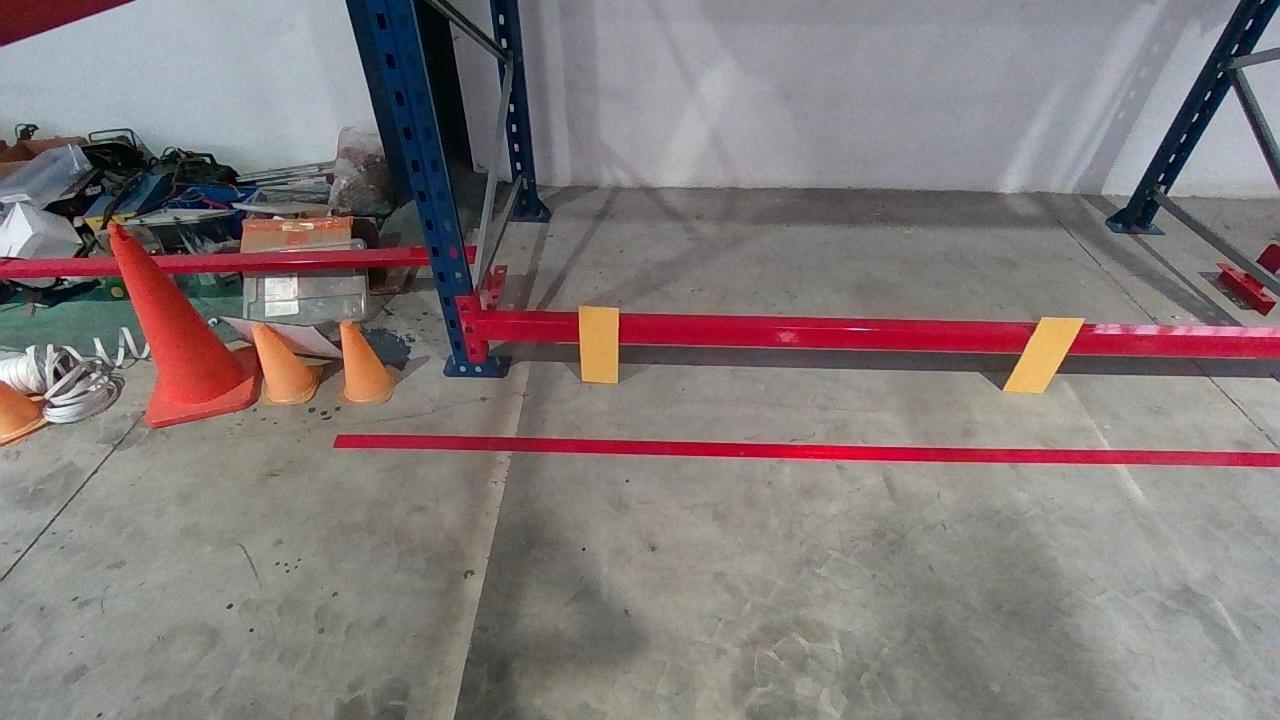h_rack: (480, 320, 1278, 356)
orange_strip: (1004, 317, 1088, 393), (578, 304, 619, 381)
red_line: (332, 434, 1278, 465)
